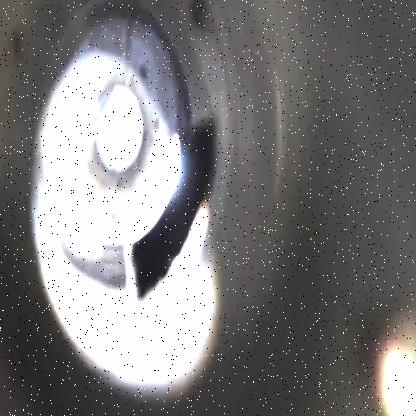Crack2: (128, 113, 218, 306)
